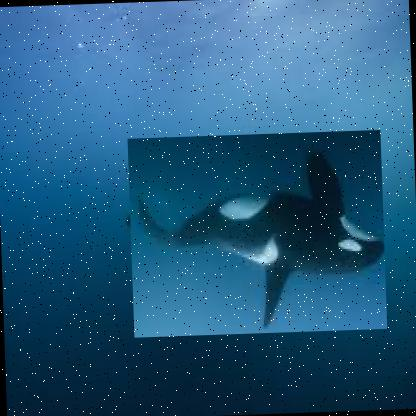killer_whale: (126, 130, 387, 340)
